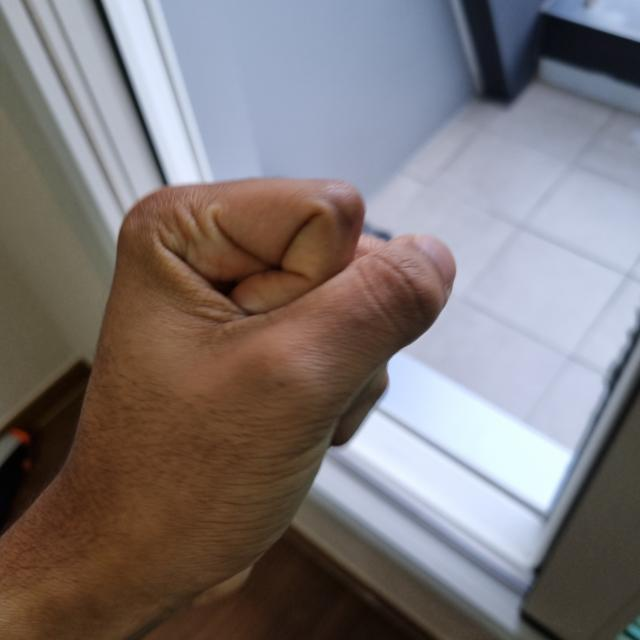Rock: (16, 176, 451, 628)
